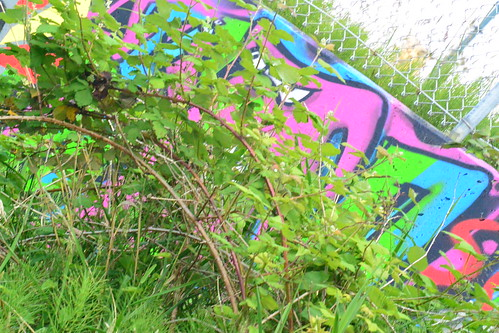graffiti: (129, 3, 499, 292)
vegetation: (1, 27, 475, 333)
